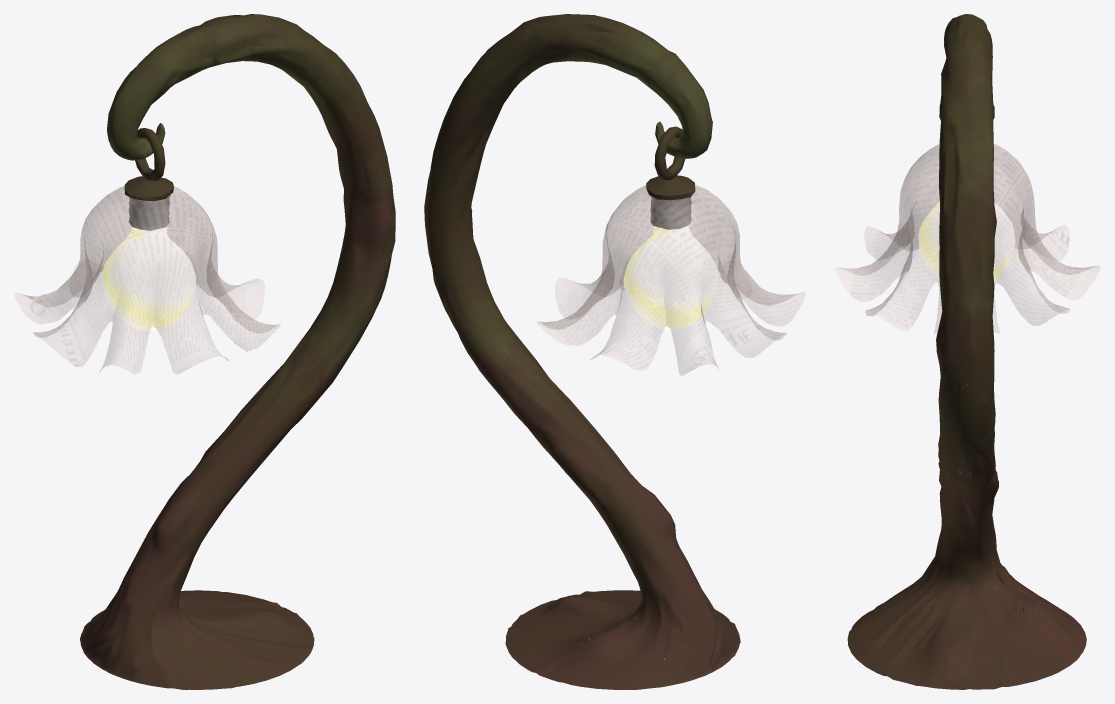
Rendered from LightsPunctualLamp.glb.
The picture shows the model from 3 angles, left to right: view 1: azimuth 30°, elevation 25°; view 2: azimuth 150°, elevation 25°; view 3: azimuth 270°, elevation 25°; orthographic projection.
Size of the model in its own units: 1.13 by 1.86 by 0.7216.
Materials: 3 (3 with a texture image).
